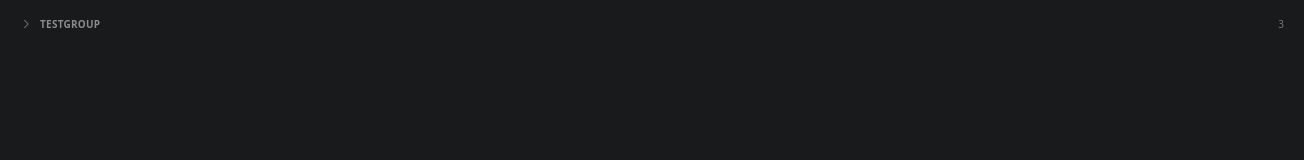
Scenario: SidebarGroup — default collapse for never-opened groups › expanding a default-collapsed group records it as opened, so it stays expanded
Click the button "TestGroup 3" at [70, 24], box top-left (12, 13), bottom-right (1292, 35)
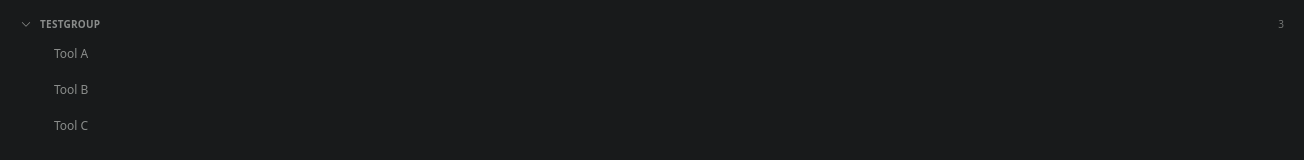
Now the button "TestGroup 3" is expanded, box top-left (12, 13), bottom-right (1292, 35)
